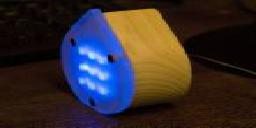LED: (70, 46, 110, 98)
